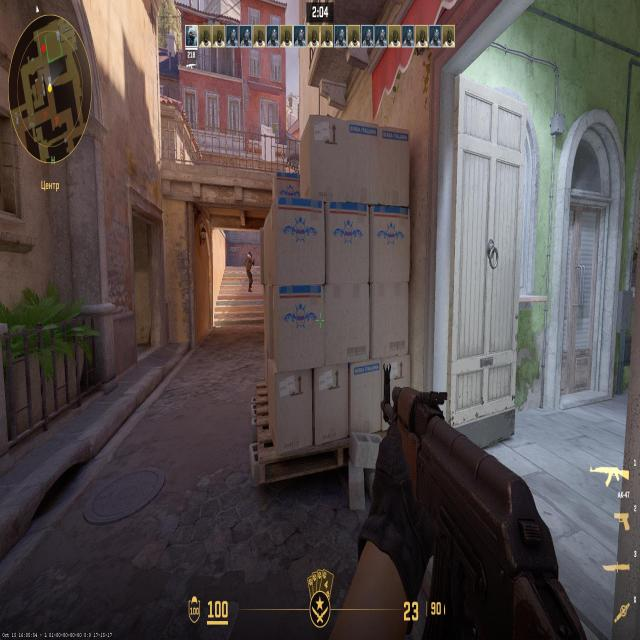CT: (244, 249, 255, 288)
CT_heat: (248, 254, 252, 264)
